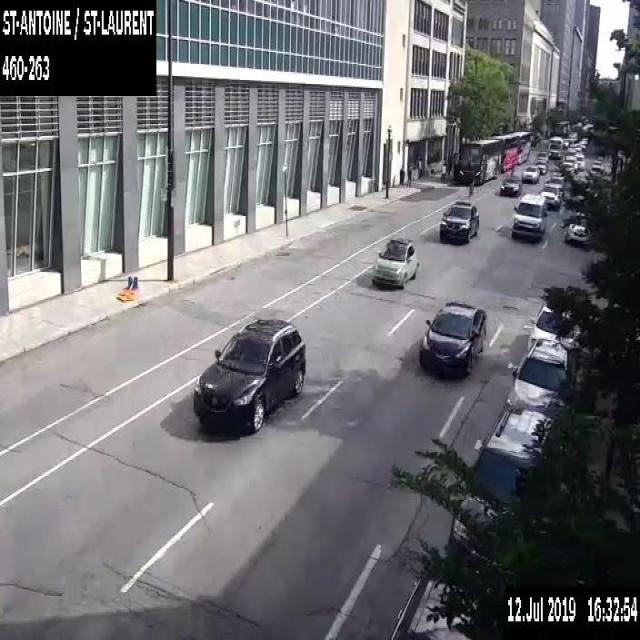bus: (452, 138, 501, 184), (486, 134, 516, 172), (508, 130, 530, 163)
construction: (114, 275, 137, 301)
pedestrian: (398, 163, 404, 187), (428, 158, 435, 178), (467, 173, 473, 196), (440, 159, 445, 181), (406, 164, 411, 186), (417, 156, 422, 177)
vehicle: (448, 402, 553, 573), (192, 317, 305, 432), (389, 570, 483, 638), (418, 301, 487, 377), (505, 335, 569, 408), (526, 298, 576, 350), (371, 237, 417, 288), (439, 199, 479, 244), (511, 192, 546, 241), (566, 212, 590, 242), (540, 181, 563, 208), (500, 175, 521, 195), (522, 163, 539, 181), (547, 136, 562, 156), (550, 168, 566, 184), (589, 160, 603, 174), (561, 161, 574, 175), (535, 159, 547, 173), (574, 153, 584, 168), (536, 150, 548, 162), (564, 149, 576, 160)
